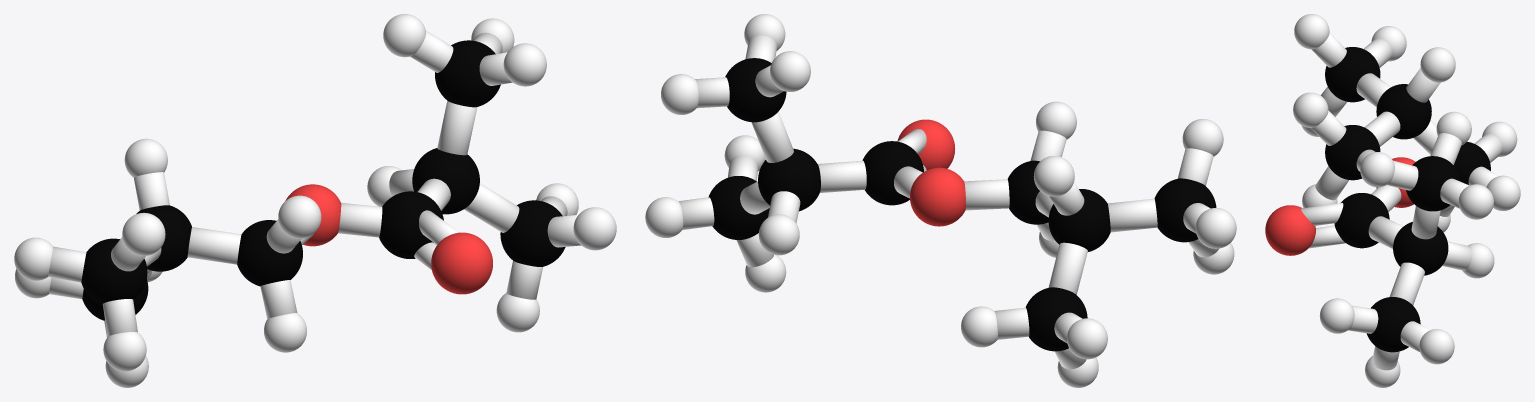
3 views of the same model, side by side, from view 1: azimuth 30°, elevation 25°; view 2: azimuth 150°, elevation 25°; view 3: azimuth 270°, elevation 25° (orthographic). The views are drawn at different scales.
Parts seen in each view (by area): view 1: molecule; view 2: molecule; view 3: molecule.
Part boxes in pixels (x1,y1,x2,y2): molecule: (14,14,616,387); molecule: (645,14,1236,387); molecule: (1265,14,1520,387).
Size of the model in its own units: 9.43 by 4.59 by 4.33.
